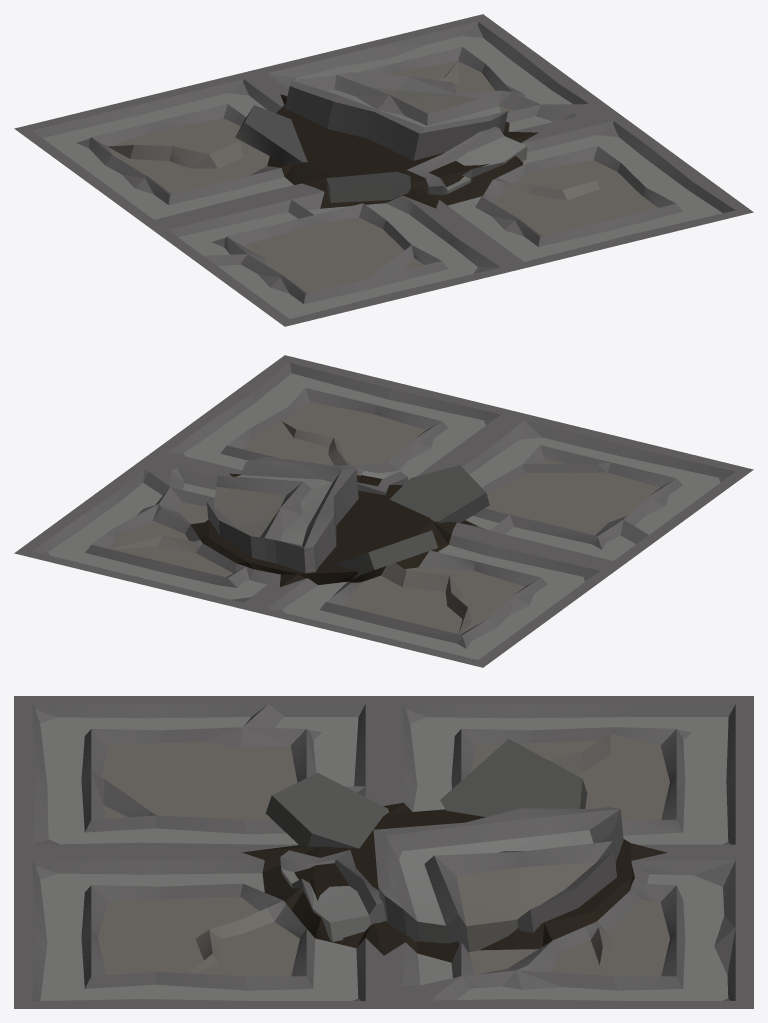
Rendered from SM_Env_Ceiling_Stone_Flat_06.glb.
3 renders of one model, top to bottom at view 1: azimuth 30°, elevation 25°; view 2: azimuth 150°, elevation 25°; view 3: azimuth 270°, elevation 25°, orthographic. The views are drawn at different scales.
Parts seen in each view (by area): view 1: SM_Env_Ceiling_Stone_Flat_06; view 2: SM_Env_Ceiling_Stone_Flat_06; view 3: SM_Env_Ceiling_Stone_Flat_06.
Part boxes in pixels (x1,y1,x2,y2): SM_Env_Ceiling_Stone_Flat_06: (14,14,753,326); SM_Env_Ceiling_Stone_Flat_06: (14,355,753,667); SM_Env_Ceiling_Stone_Flat_06: (14,696,753,1008).
Size of the model in its own units: 0.1 by 0.0126 by 0.1.
1 material, 1 textured.
